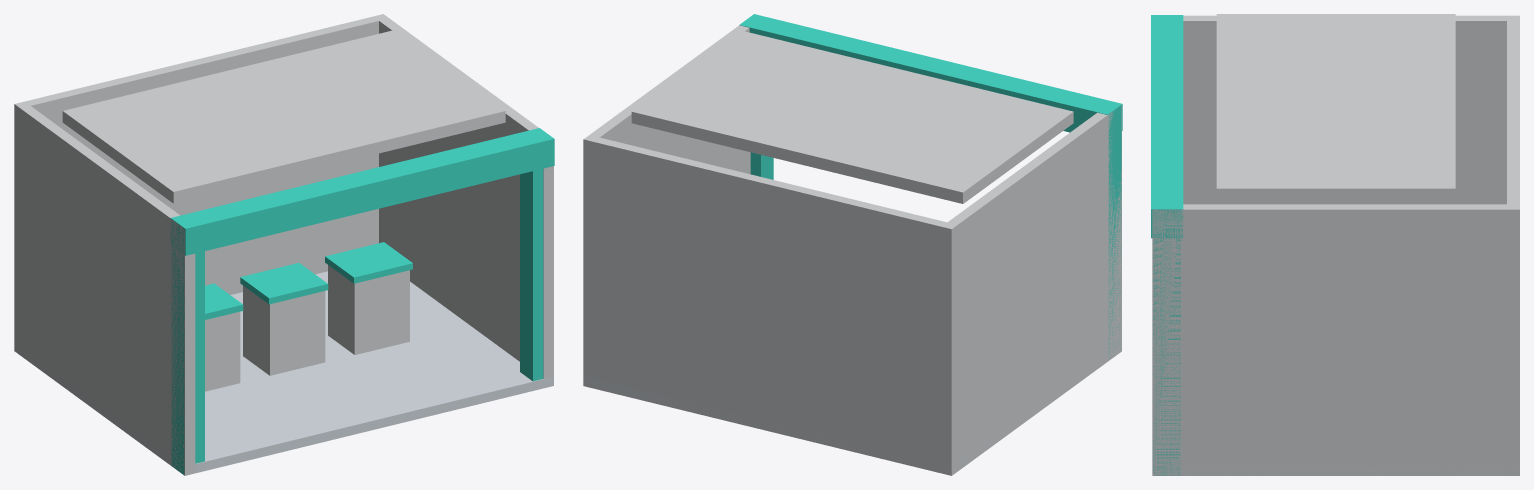
The picture shows the model from 3 angles, left to right: view 1: azimuth 30°, elevation 25°; view 2: azimuth 150°, elevation 25°; view 3: azimuth 270°, elevation 25°; orthographic projection. The views are drawn at different scales.
Parts seen in each view (by area): view 1: Exhibition Booth Concept; view 2: Exhibition Booth Concept; view 3: Exhibition Booth Concept.
Boxes of the visible parts, bbox=[...] form: Exhibition Booth Concept: bbox=[14, 14, 554, 475]; Exhibition Booth Concept: bbox=[583, 14, 1122, 475]; Exhibition Booth Concept: bbox=[1151, 14, 1519, 475].
Bounding box in the file's own units: 5 × 3.34 × 4.02.
